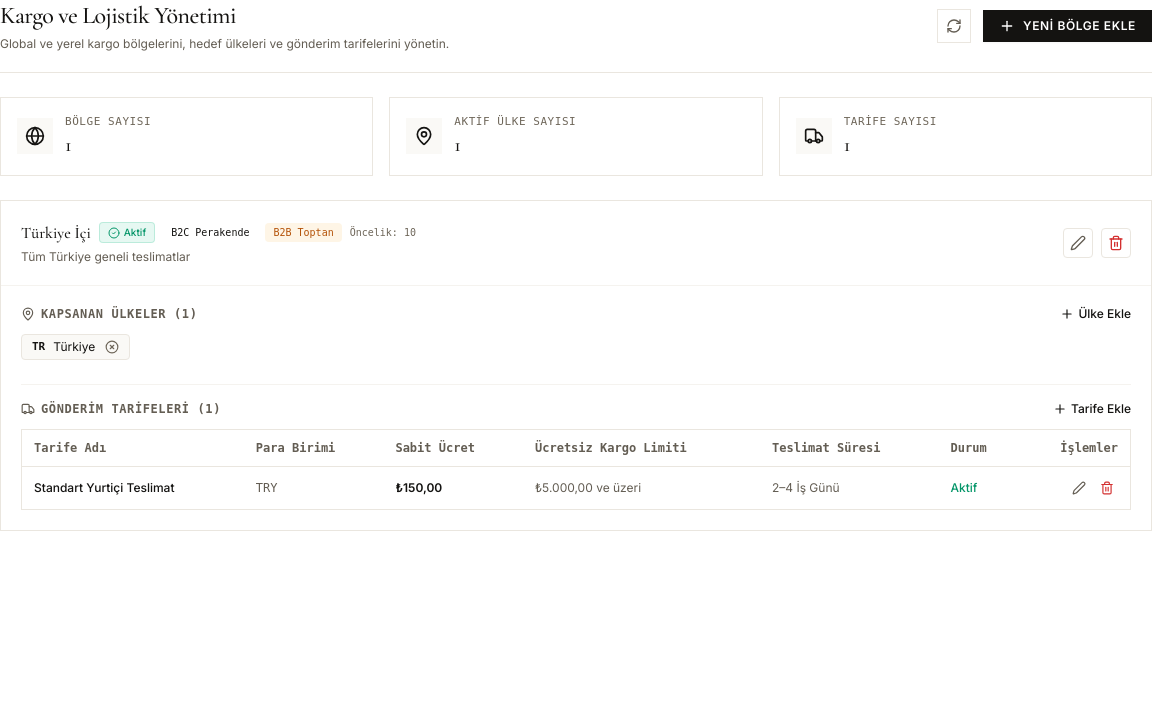
Test: AdminShippingPage Component (Phase 3.3) › opens ConfirmDialog on removing country and auto-closes on confirmation
Expected: the heading "Türkiye İçi" is shown, left=21, top=220, right=91, bottom=244
Click the button titled "Ülkeyi Çıkar" at (112, 346), box left=105, top=340, right=119, bottom=354
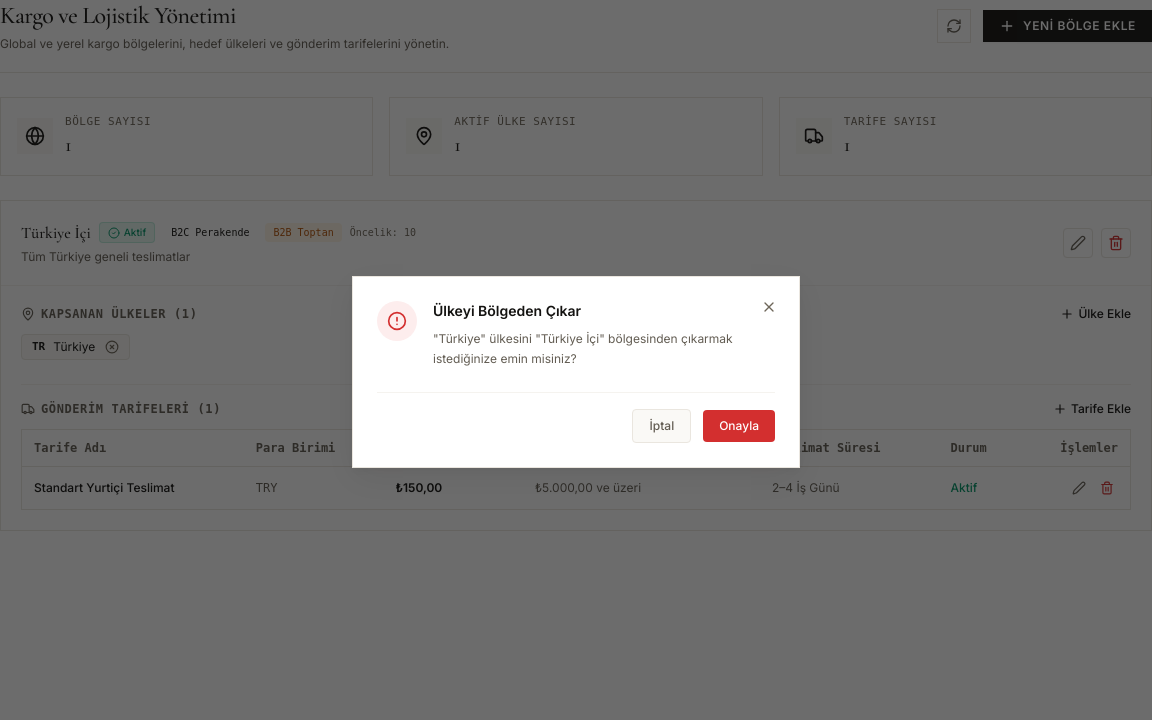
Expected: the heading "Ülkeyi Bölgeden Çıkar" is shown, left=433, top=302, right=581, bottom=319
Click the button "Onayla" at (739, 426), box left=703, top=410, right=775, bottom=442
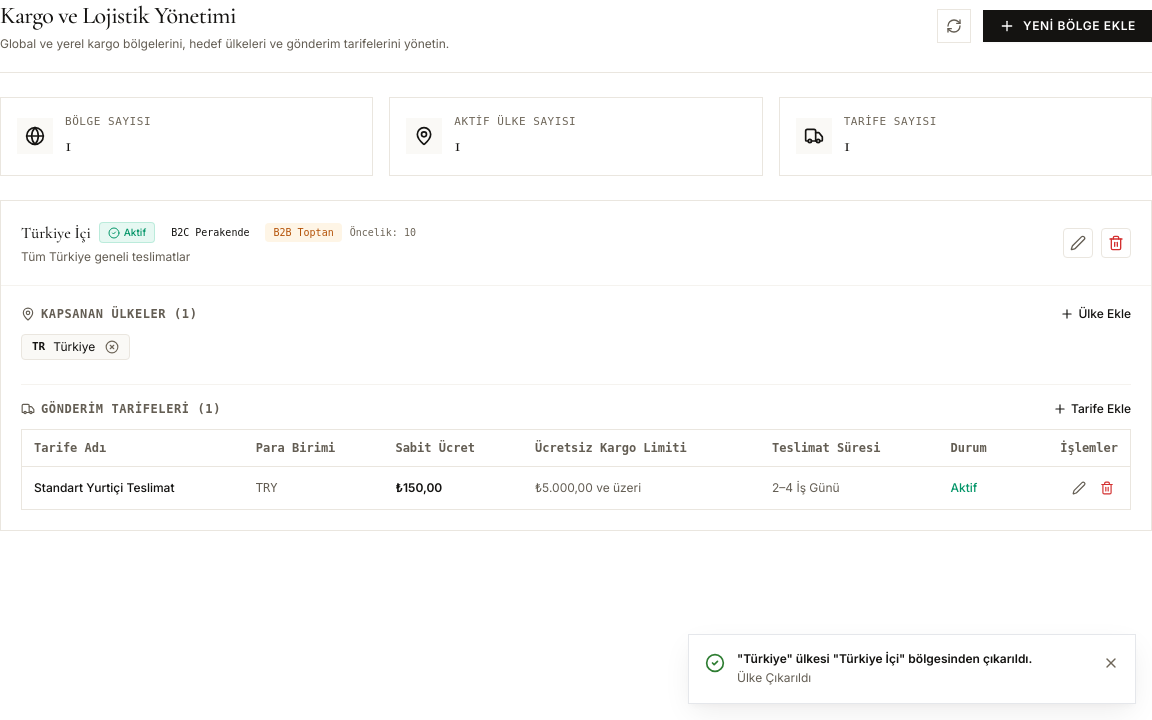
Expected: the heading "Ülkeyi Bölgeden Çıkar" is gone
